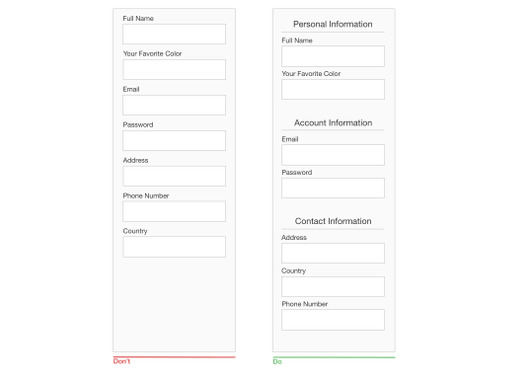_form_: (1, 1, 416, 380)
field: (279, 306, 387, 334), (120, 21, 227, 47), (120, 234, 227, 260), (278, 142, 386, 167), (279, 274, 387, 299), (279, 43, 386, 68), (122, 57, 228, 82), (279, 77, 385, 102), (120, 199, 228, 223), (278, 176, 386, 200), (120, 164, 227, 188), (279, 241, 386, 265), (120, 94, 228, 117), (120, 129, 227, 152)
field_with_label: (276, 300, 388, 335), (275, 135, 389, 169), (119, 14, 229, 49), (118, 227, 228, 262), (119, 85, 231, 119), (277, 36, 388, 70), (120, 50, 229, 84), (119, 120, 228, 154), (276, 169, 388, 202), (277, 267, 389, 300), (118, 157, 229, 190), (277, 234, 387, 267), (277, 71, 386, 104), (118, 193, 229, 225)
